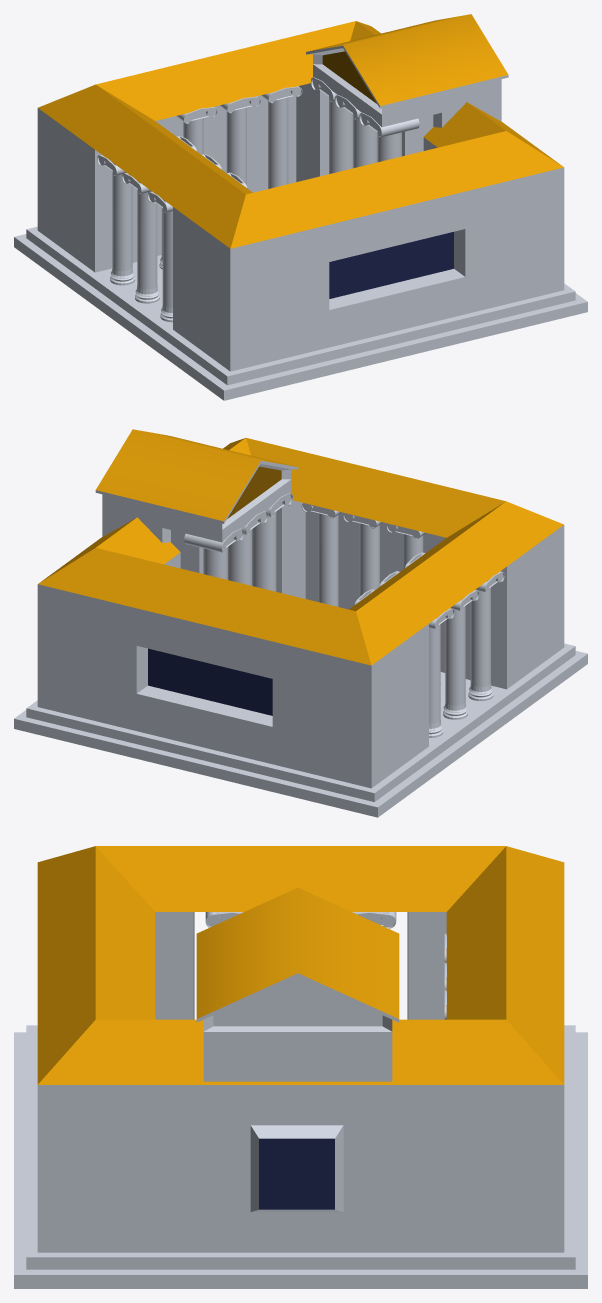
File: HouseRich.fbx
3 renders of one model, top to bottom at view 1: azimuth 30°, elevation 25°; view 2: azimuth 150°, elevation 25°; view 3: azimuth 270°, elevation 25°, orthographic. The views are drawn at different scales.
Visible parts, largest first — view 1: pCube28; view 2: pCube28; view 3: pCube28.
Boxes of the visible parts, box(x1,y1,x2,y2) form: pCube28: box(14, 14, 587, 400); pCube28: box(14, 429, 587, 817); pCube28: box(14, 846, 587, 1288).
Bounding box in the file's own units: 3.04 × 1.8 × 3.04.
